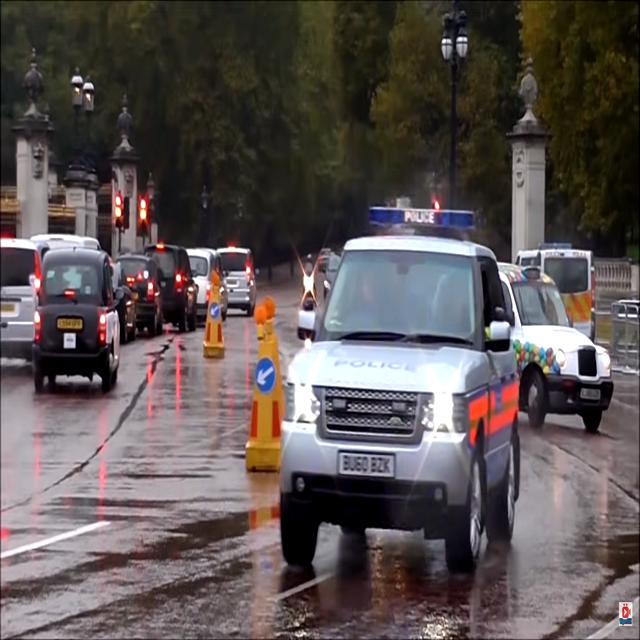emergency-vehicles: (267, 184, 541, 596)
